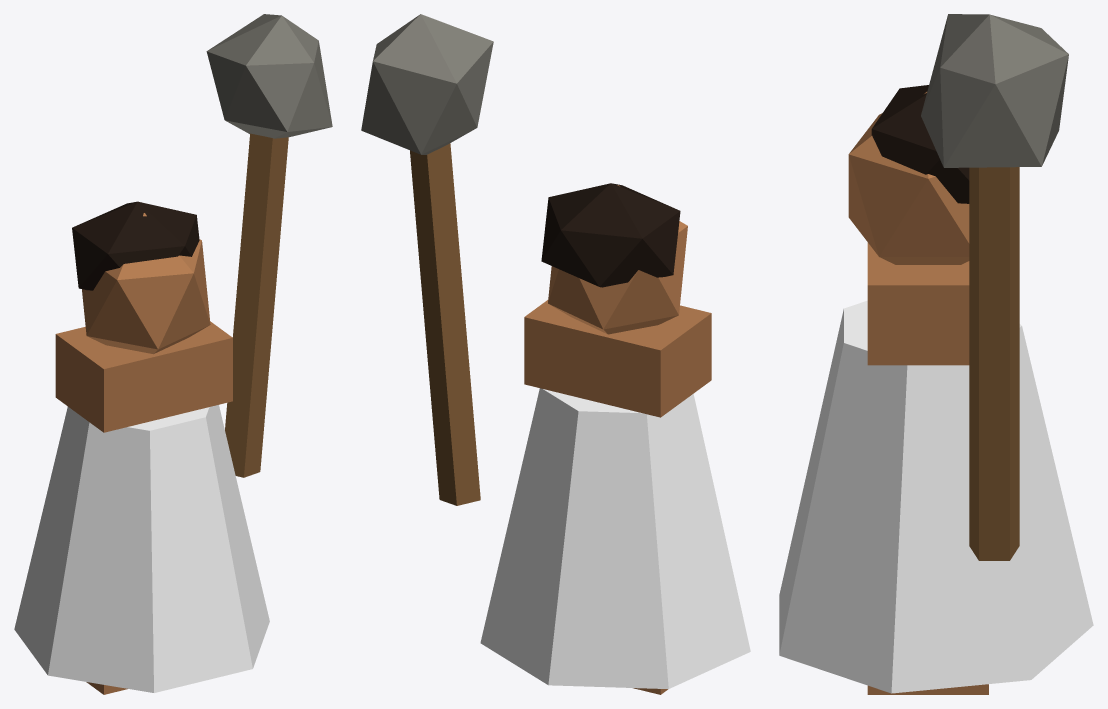
File: warrior_stone.glb
3 renders of one model, left to right at view 1: azimuth 30°, elevation 25°; view 2: azimuth 150°, elevation 25°; view 3: azimuth 270°, elevation 25°, orthographic. The views are drawn at different scales.
Visible parts, largest first — view 1: part, part.003, part.006, part.007, part.004, part.005; view 2: part, part.003, part.006, part.007, part.005, part.004; view 3: part, part.006, part.007, part.004, part.003, part.005, part.002.
Part boxes in pixels (bbox=[...]): part: bbox=[14, 405, 269, 692]; part.003: bbox=[55, 321, 232, 432]; part.006: bbox=[225, 133, 288, 477]; part.007: bbox=[206, 14, 332, 138]; part.004: bbox=[82, 213, 210, 354]; part.005: bbox=[72, 201, 199, 290]; part: bbox=[480, 388, 750, 689]; part.003: bbox=[524, 300, 711, 417]; part.006: bbox=[410, 143, 480, 505]; part.007: bbox=[361, 14, 493, 154]; part.005: bbox=[541, 183, 680, 287]; part.004: bbox=[548, 185, 687, 334]; part: bbox=[779, 300, 1093, 693]; part.006: bbox=[969, 167, 1019, 560]; part.007: bbox=[921, 14, 1068, 167]; part.004: bbox=[848, 91, 969, 264]; part.003: bbox=[867, 242, 969, 365]; part.005: bbox=[871, 85, 969, 203]; part.002: bbox=[867, 684, 988, 694].
Size of the model in its own units: 0.4114 by 0.7411 by 0.2851.
